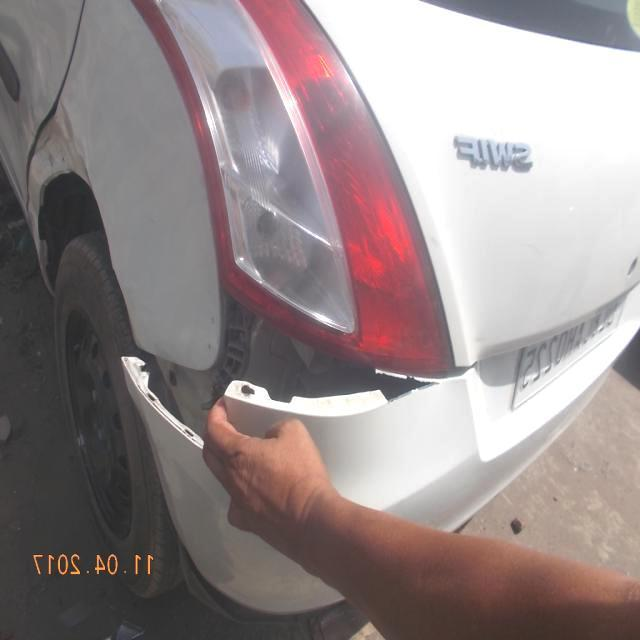minor: (126, 273, 471, 478)
